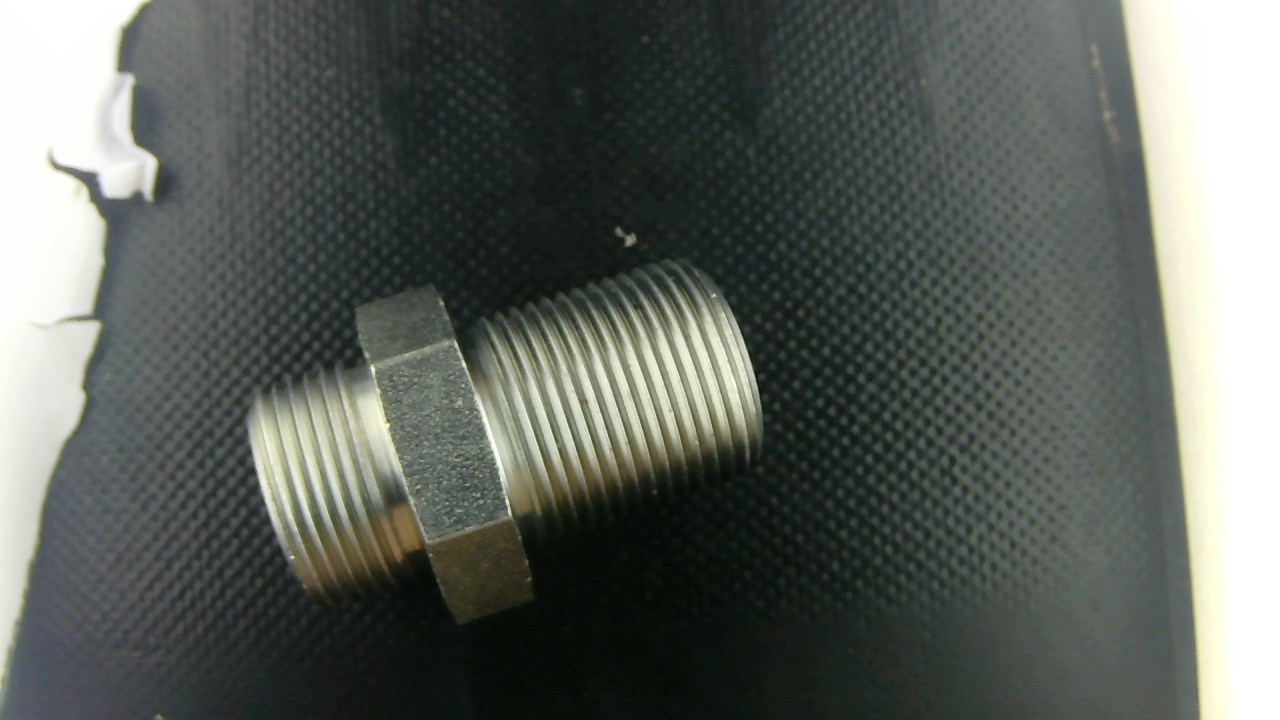okay_adapter: (247, 260, 762, 622)
